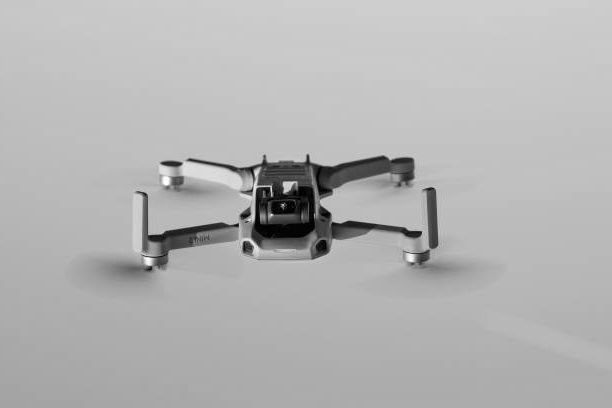Drone: (55, 152, 510, 293)
